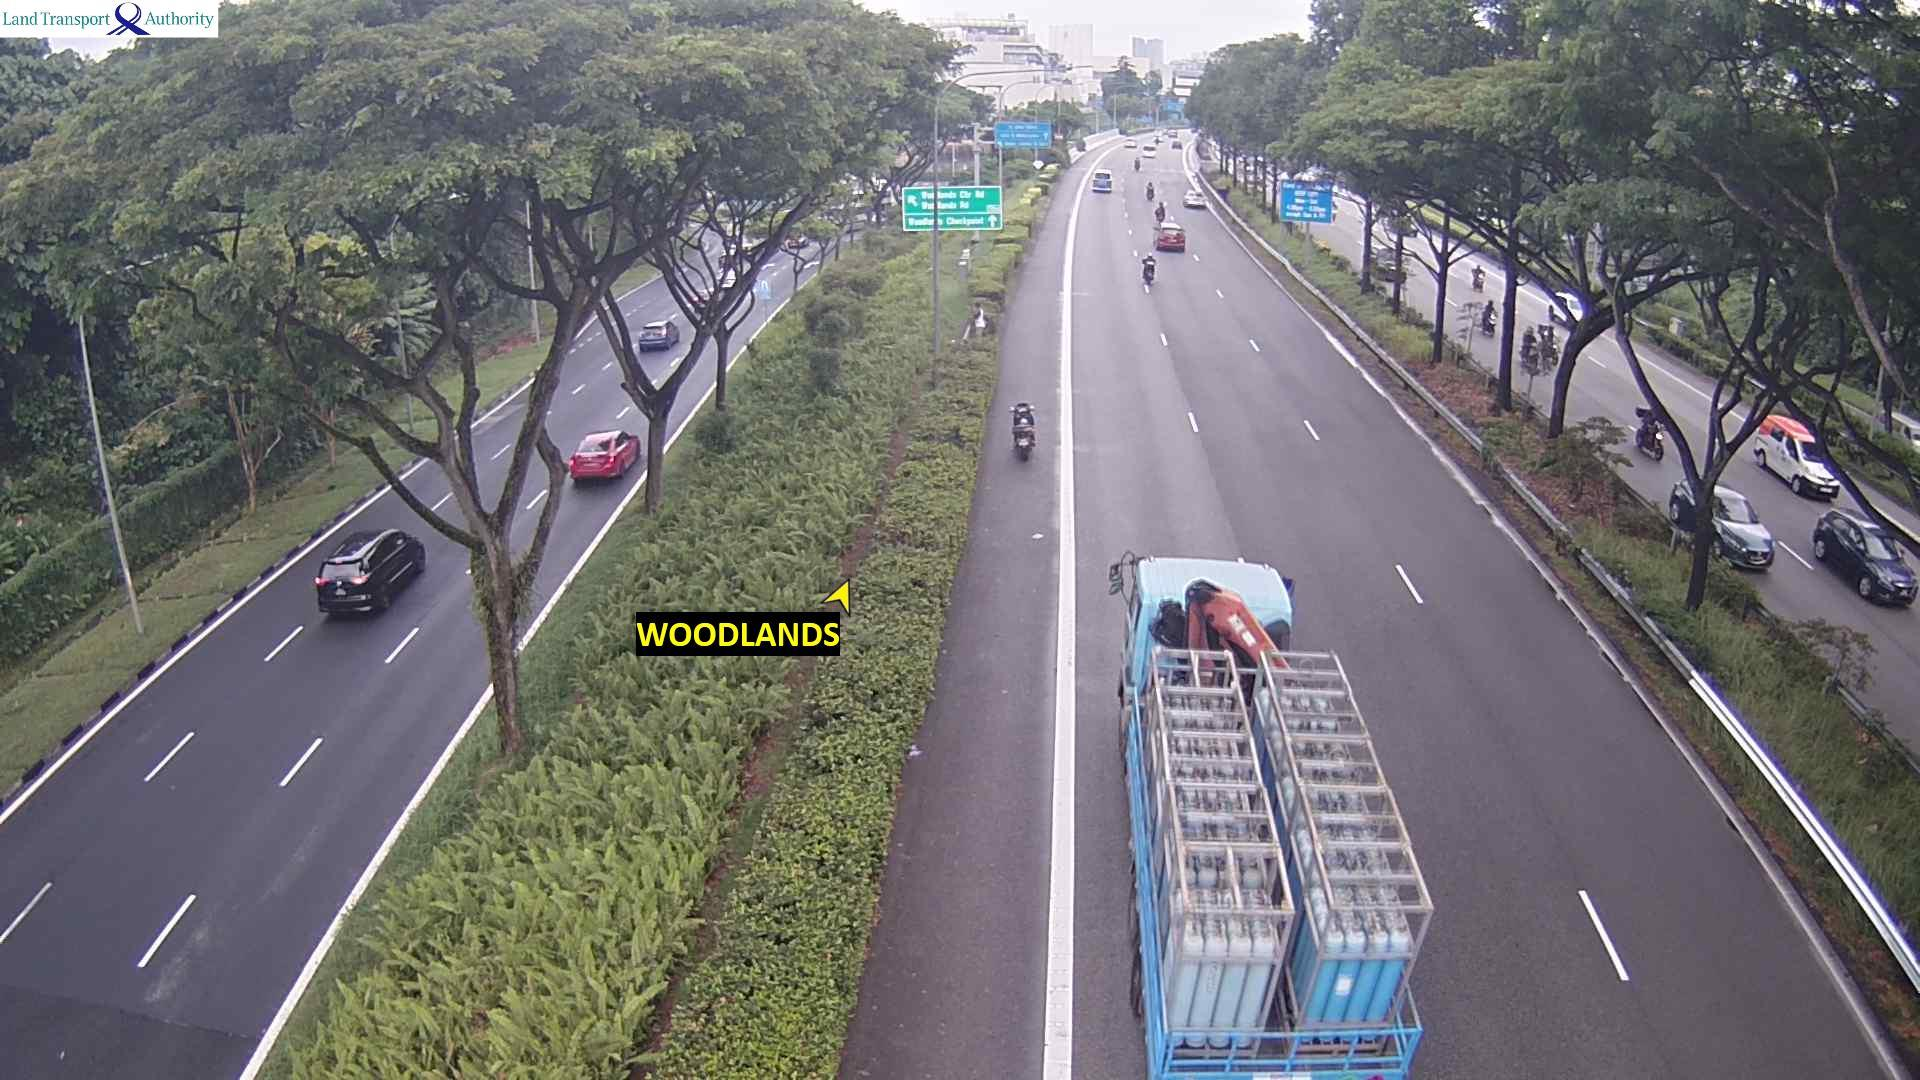incoming: (1712, 497, 1782, 580), (1862, 531, 1917, 613)
